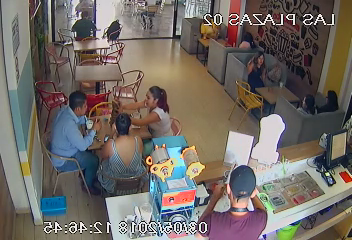libre: (73, 60, 134, 105), (56, 34, 114, 66)
ocupado: (54, 92, 176, 190), (237, 51, 321, 139)
